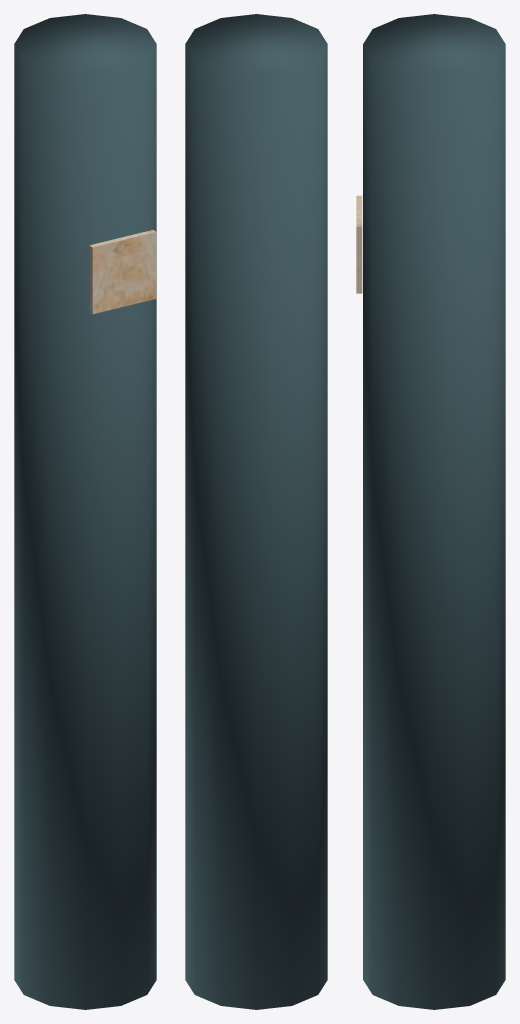
File: bollard.glb
The picture shows the model from 3 angles, left to right: view 1: azimuth 30°, elevation 25°; view 2: azimuth 150°, elevation 25°; view 3: azimuth 270°, elevation 25°; orthographic projection.
Visible parts, largest first — view 1: bollard__VVK_painted_steel, bollard__VVK_concrete_CC0; view 2: bollard__VVK_painted_steel; view 3: bollard__VVK_painted_steel, bollard__VVK_concrete_CC0.
Part boxes in pixels (x1=…): bollard__VVK_painted_steel: x1=14, y1=14, x2=156, y2=1009; bollard__VVK_concrete_CC0: x1=89, y1=230, x2=156, y2=314; bollard__VVK_painted_steel: x1=185, y1=14, x2=327, y2=1009; bollard__VVK_painted_steel: x1=363, y1=14, x2=505, y2=1009; bollard__VVK_concrete_CC0: x1=356, y1=195, x2=362, y2=293.
Size of the model in its own units: 0.116 by 0.84 by 0.1215.
Materials: 2 (1 with a texture image).
